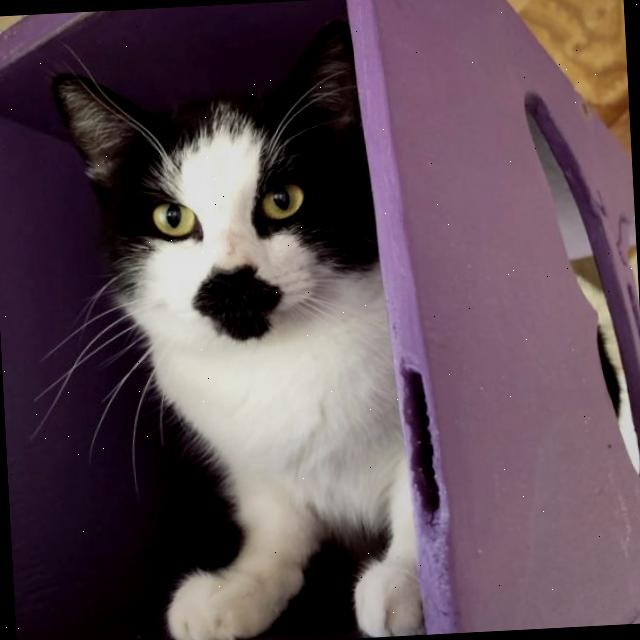american_shorthair_cat: (46, 15, 387, 367)
